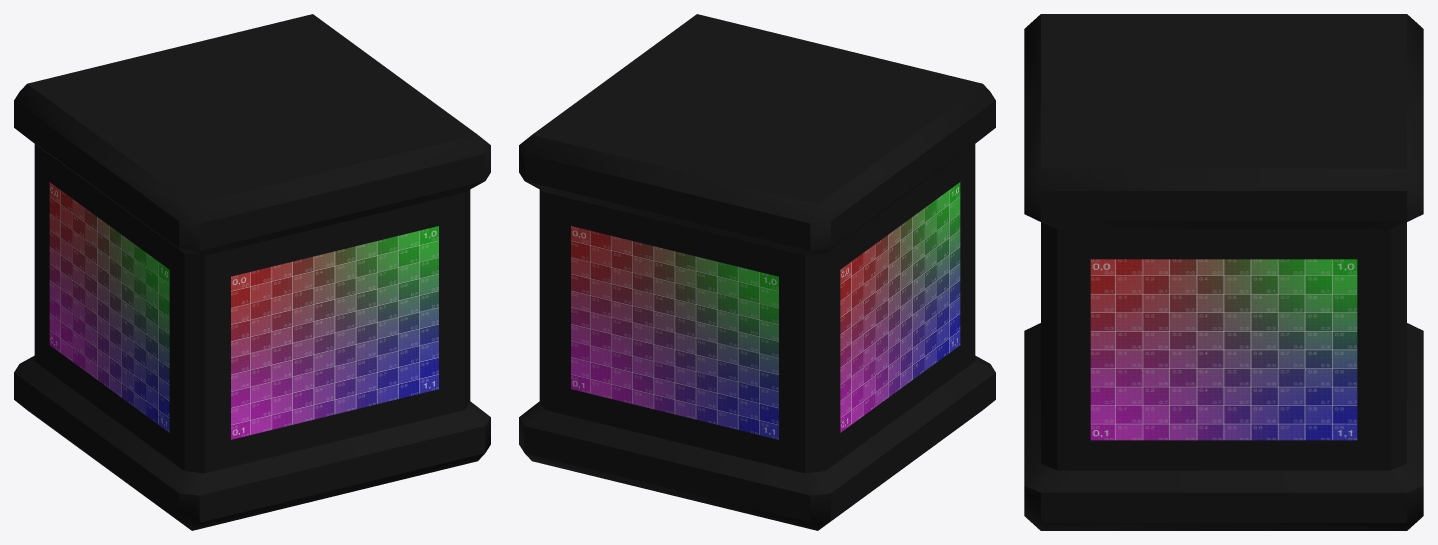
Rendered from battery.fbx.
The picture shows the model from 3 angles, left to right: view 1: azimuth 30°, elevation 25°; view 2: azimuth 150°, elevation 25°; view 3: azimuth 270°, elevation 25°; orthographic projection. The views are drawn at different scales.
Visible parts, largest first — view 1: Krychle; view 2: Krychle; view 3: Krychle.
Boxes of the visible parts, x1,y1,x2,y2 form: Krychle: [14, 14, 490, 530]; Krychle: [519, 14, 995, 530]; Krychle: [1024, 14, 1423, 530].
Bounding box in the file's own units: 60 × 60 × 60.
2 materials, 1 textured.
